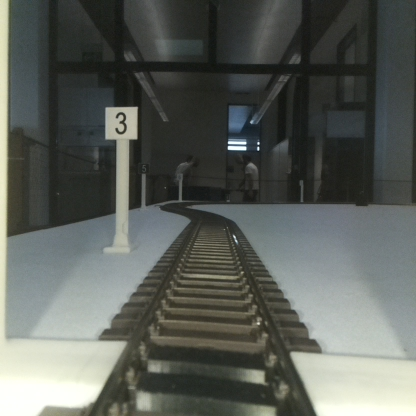white-info-3: (105, 107, 137, 251)
